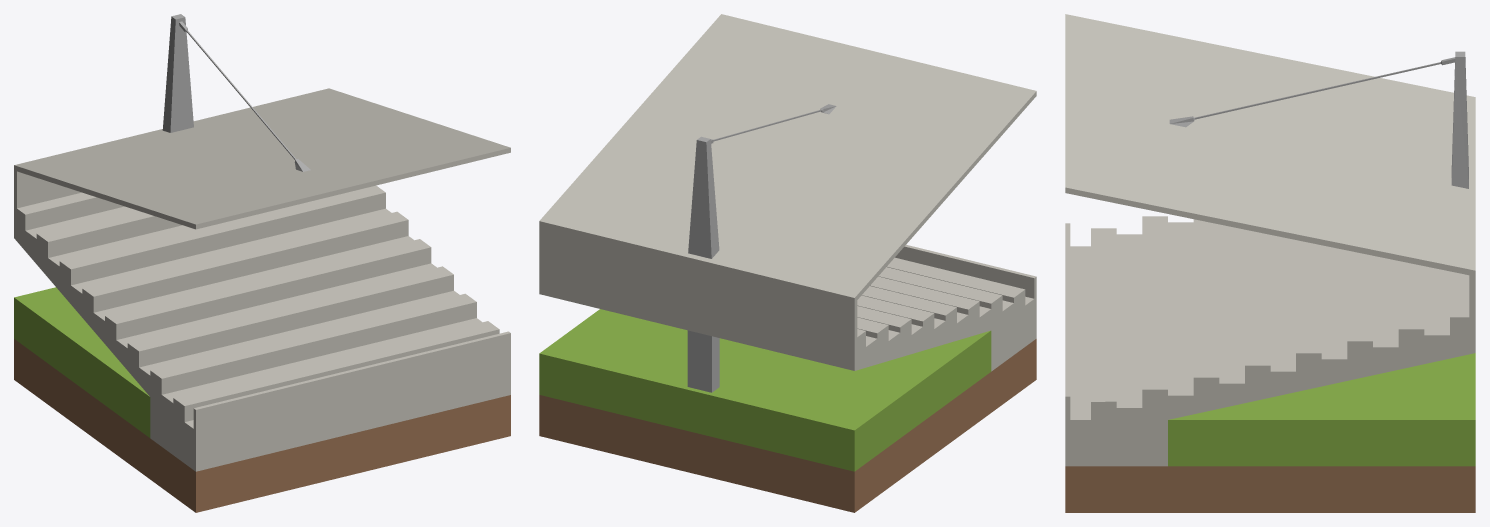
The model's file is building-tribune.obj.
3 renders of one model, left to right at view 1: azimuth 30°, elevation 25°; view 2: azimuth 150°, elevation 25°; view 3: azimuth 270°, elevation 25°, orthographic. The views are drawn at different scales.
Visible parts, largest first — view 1: building-tribune_Cube.910; view 2: building-tribune_Cube.910; view 3: building-tribune_Cube.910.
Boxes of the visible parts, x1,y1,x2,y2 form: building-tribune_Cube.910: (14, 14, 510, 512); building-tribune_Cube.910: (539, 14, 1036, 512); building-tribune_Cube.910: (1065, 14, 1475, 512).
Bounding box in the file's own units: 8 × 8 × 8.
Materials: 1 (1 with a texture image).
